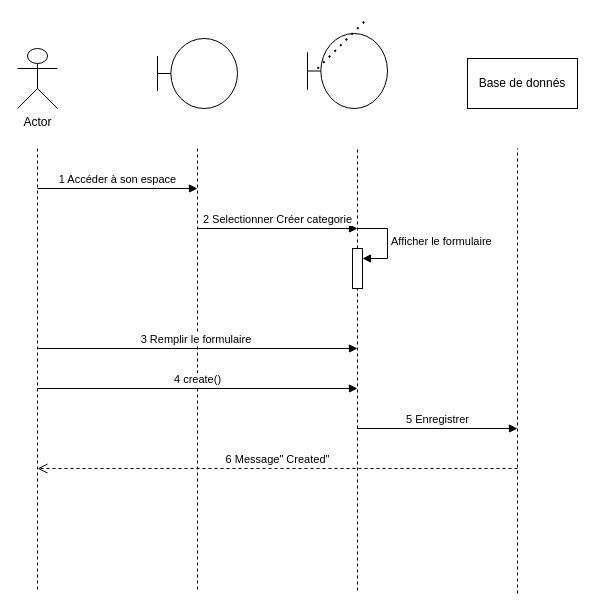
This 595x612 diagram has some shape labels left out. The centre of each missing label's shape, as x and y in pixels:
"Dashboard" belongs at point (197, 73).
"Interface d'ajout" belongs at point (347, 70).
